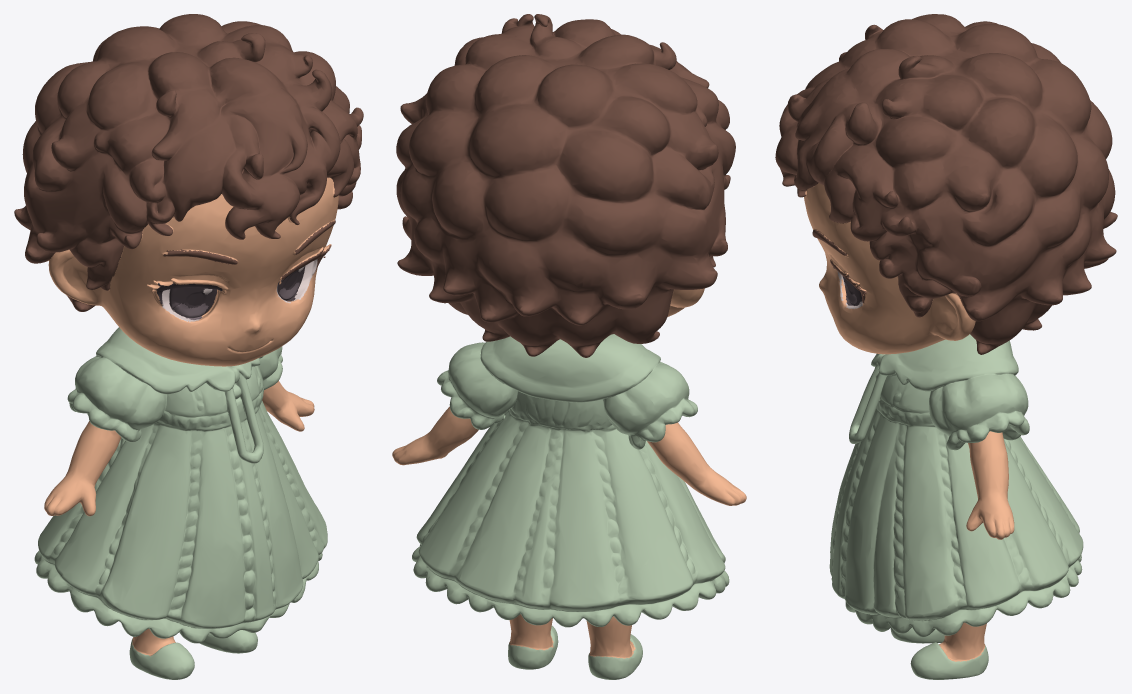
File: maria-alice.glb
3 views of the same model, side by side, from view 1: azimuth 30°, elevation 25°; view 2: azimuth 150°, elevation 25°; view 3: azimuth 270°, elevation 25° (orthographic).
Visible parts, largest first — view 1: MariaAlice; view 2: MariaAlice; view 3: MariaAlice.
Boxes of the visible parts, box(x1,y1,x2,y2) form: MariaAlice: box(14, 14, 363, 679); MariaAlice: box(392, 14, 746, 679); MariaAlice: box(775, 14, 1117, 679).
Bounding box in the file's own units: 0.157 × 0.3 × 0.15.
